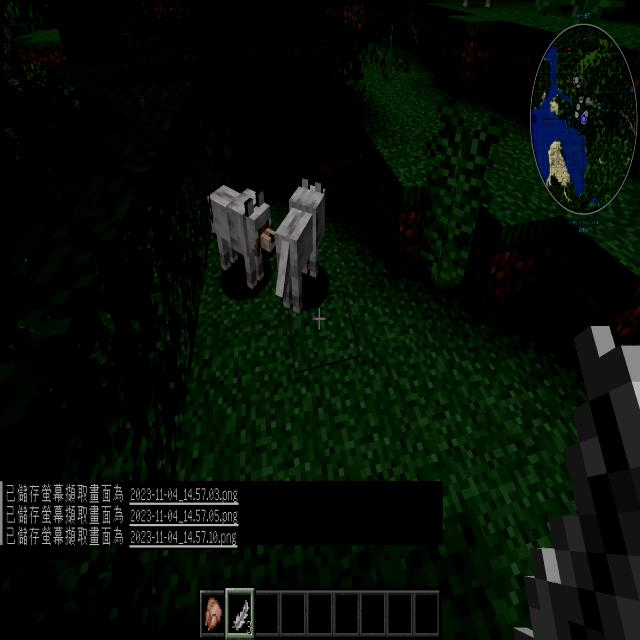Wolf: (258, 164, 360, 326), (188, 173, 298, 309)
